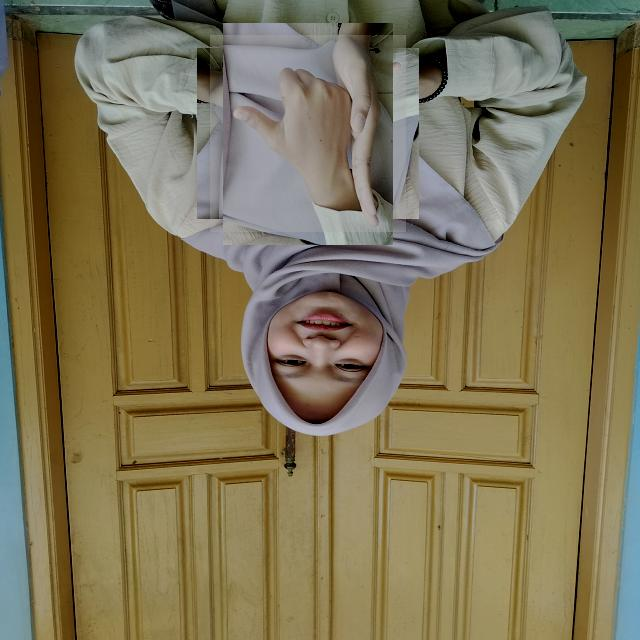cantik: (210, 35, 406, 232)
